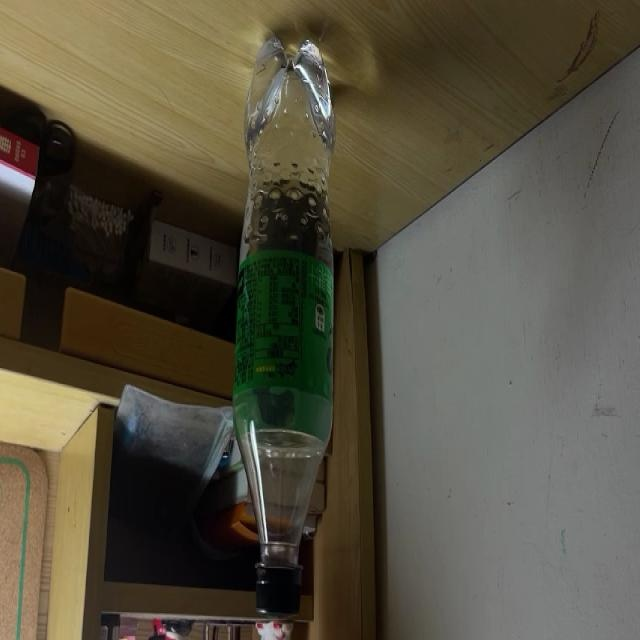Sprite: (230, 28, 338, 622)
